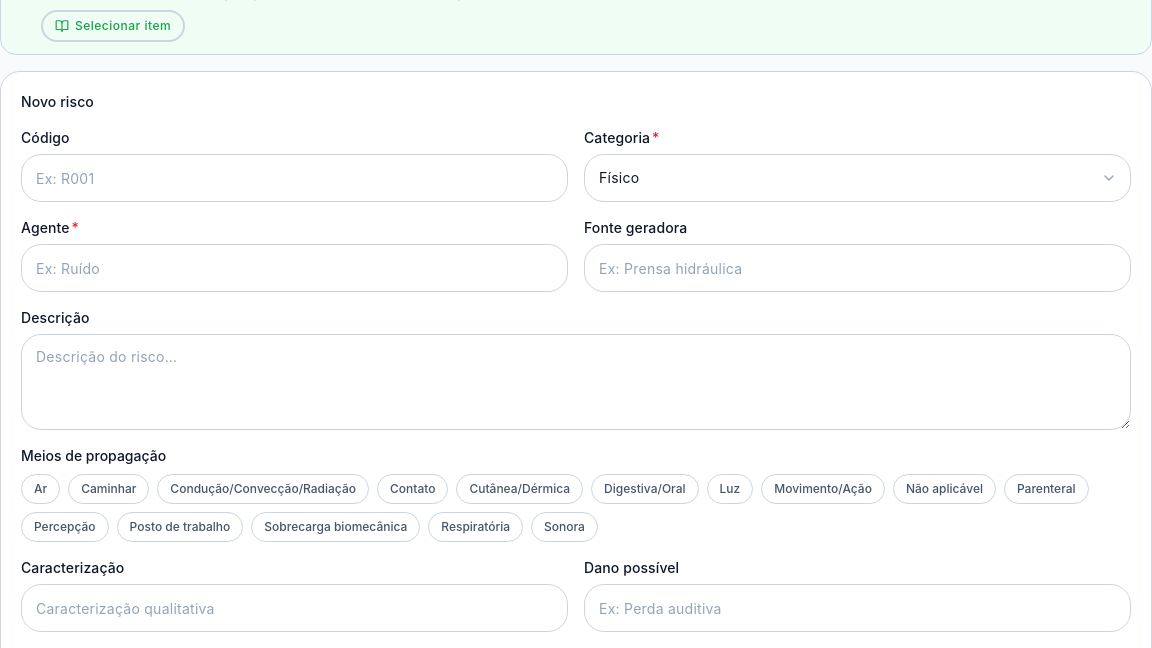
Test: RiscoForm — integração com Biblioteca Técnica › autopreenche dano possível a partir de danos_possiveis
Click the button "Selecionar item".
click(113, 26)  # box [41,10,185,42]
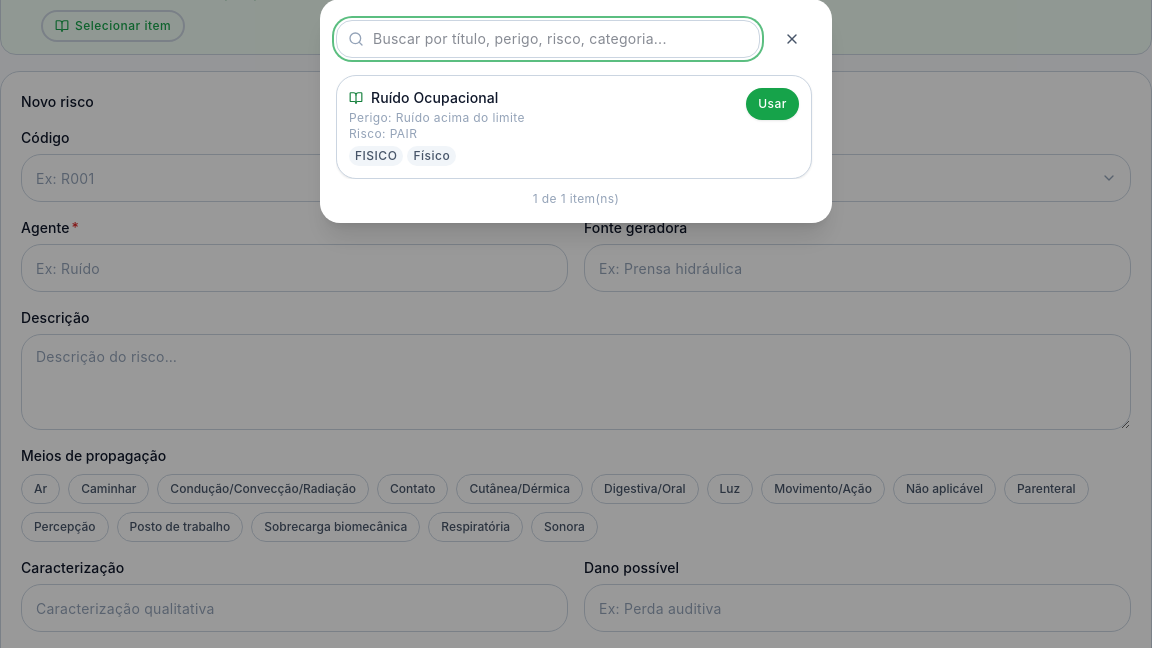
Click the text "Ruído Ocupacional".
click(435, 98)  # box [371,88,498,108]
(page scrolled)
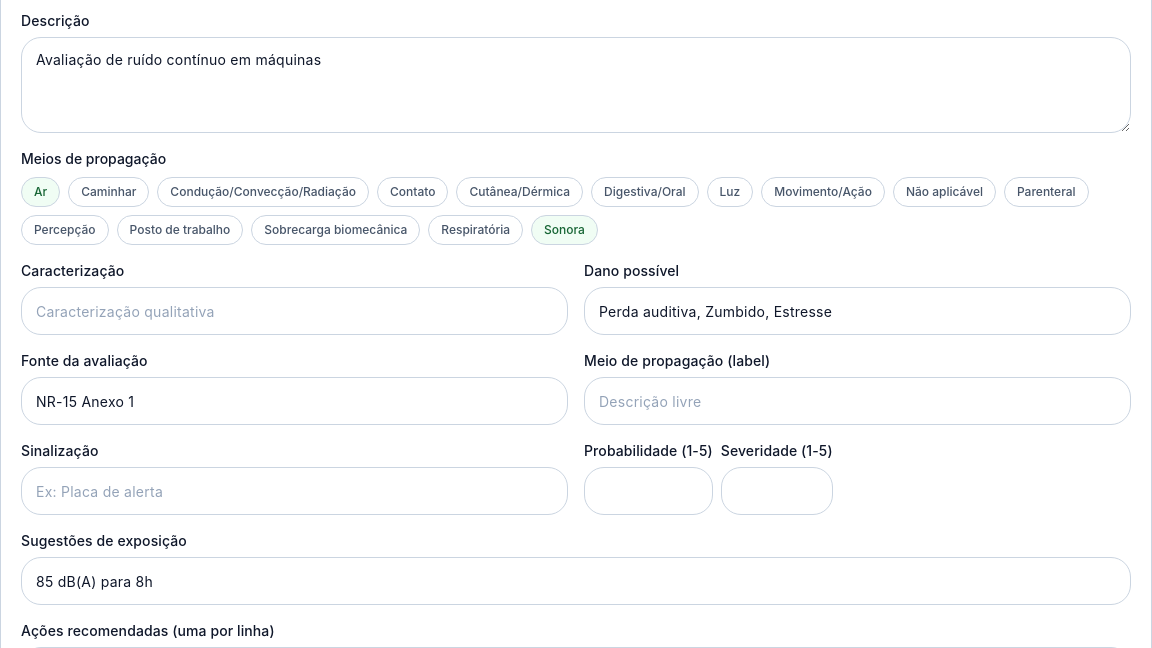
Expected: the field showing "Perda auditiva, Zumbido, Estresse" is shown, [584,287,1131,335]
